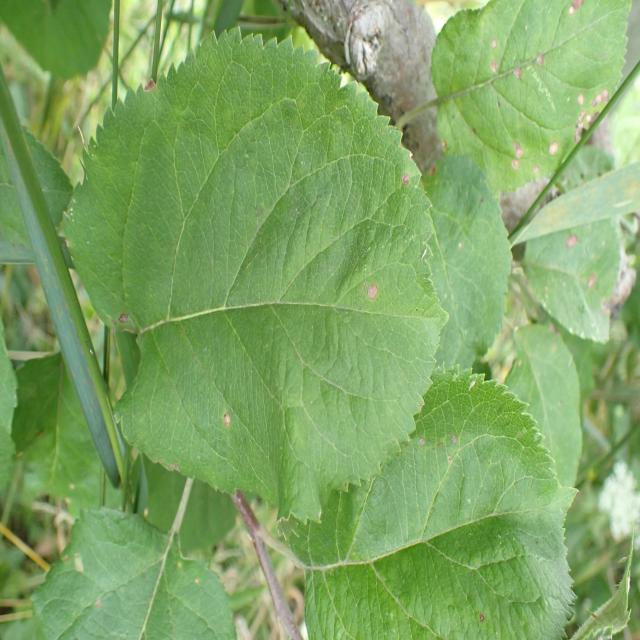Black Rot: (444, 5, 624, 183), (564, 214, 632, 336), (357, 261, 387, 333), (212, 393, 240, 449), (393, 162, 413, 200)
